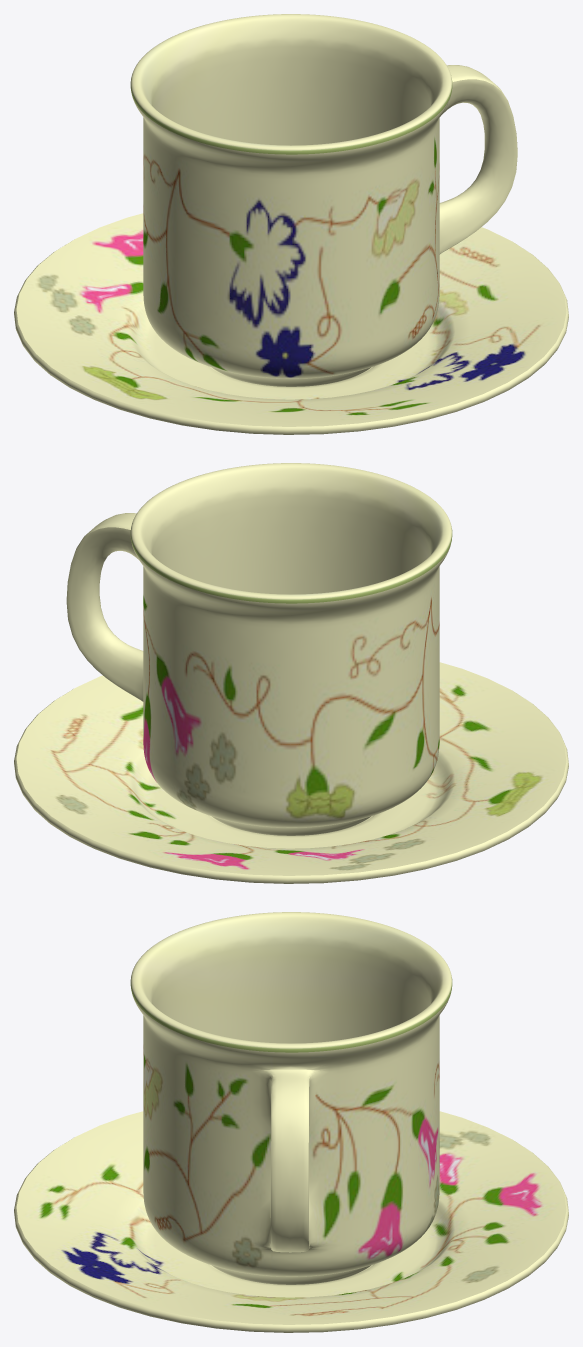
The model's file is scopia-cup.glb.
The picture shows the model from 3 angles, top to bottom: view 1: azimuth 30°, elevation 25°; view 2: azimuth 150°, elevation 25°; view 3: azimuth 270°, elevation 25°; orthographic projection.
Parts seen in each view (by area): view 1: cup_Plane, plate_Plane.001; view 2: cup_Plane, plate_Plane.001; view 3: cup_Plane, plate_Plane.001.
Part boxes in pixels (x1=…): cup_Plane: x1=130, y1=14, x2=517, y2=386; plate_Plane.001: x1=14, y1=213, x2=568, y2=434; cup_Plane: x1=66, y1=463, x2=452, y2=835; plate_Plane.001: x1=14, y1=662, x2=568, y2=883; cup_Plane: x1=130, y1=912, x2=452, y2=1284; plate_Plane.001: x1=14, y1=1111, x2=568, y2=1332.
Bounding box in the file's own units: 11.98 × 6.78 × 11.98.
2 materials, 2 textured.
